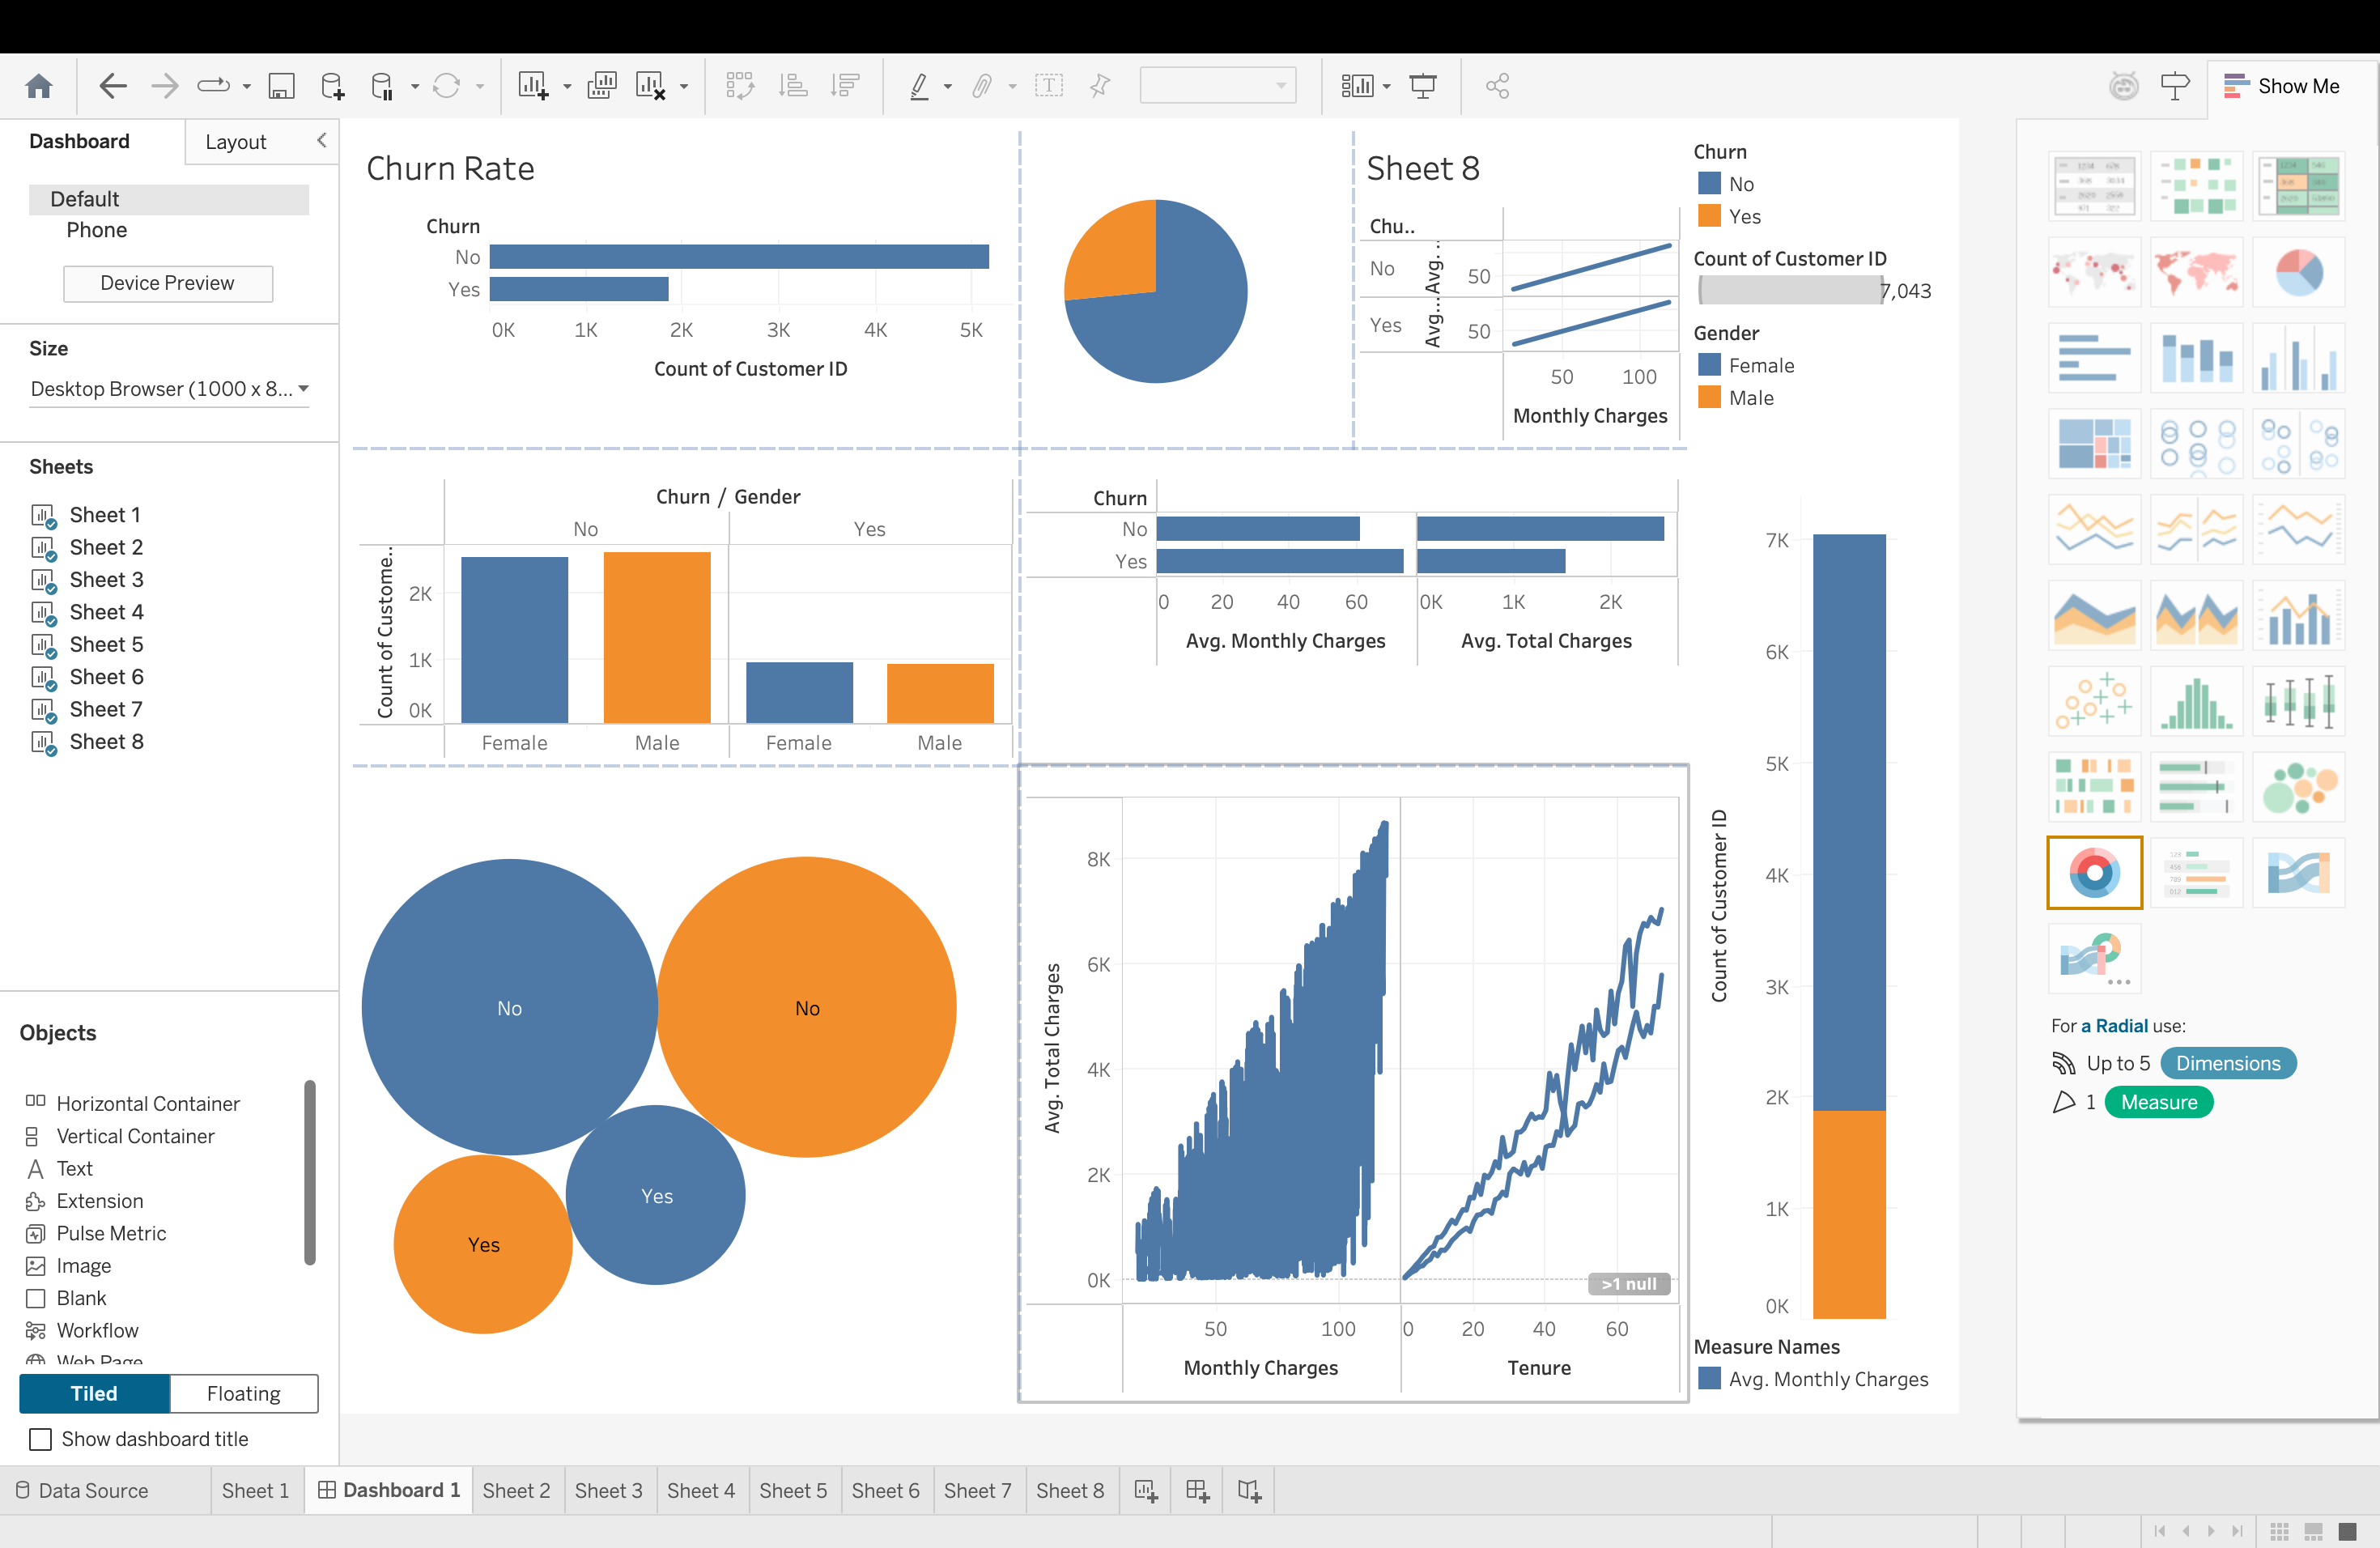

What the dashboard file says about the page in this screenshot:
{"tool":"tableau","page":{"name":"Dashboard 1","canvas":[1000,800],"ordinal":0},"visuals":[{"type":"worksheet","title":"Sheet 1","mark":"Text","box":[8,8,984,40]},{"type":"legend","title":"Sheet 5","param":"[federated.0di1g1e1ldg8qe1a4374m0ubr3km].[none:Churn:nk]","box":[832,8,160,66]},{"type":"worksheet","title":"Sheet 2","mark":"Automatic","box":[9,53,324,202]},{"type":"worksheet","title":"Sheet 3","mark":"Automatic","box":[333,53,329,202]},{"type":"worksheet","title":"Sheet 4","mark":"Automatic","box":[662,53,329,202]},{"type":"worksheet","title":"Sheet 5","mark":"Automatic","rows":["Churn"],"cols":["customerID"],"box":[9,262,500,173]},{"type":"worksheet","title":"Sheet 6","mark":"Automatic","rows":["Contract"],"cols":["Calculation_6406852661682184"],"box":[516,262,478,173]},{"type":"worksheet","title":"Sheet 7","mark":"Line","rows":["Calculation_6406852663406601"],"cols":["Churn","Calculation_6406852661682184"],"box":[9,456,985,204]}]}

Visuals, with their boxes on the page's 1000x800 design canvas (x1, y1, x2, y2). These are canvas units, not pixel positions in the 2380x1548 screenshot, which may show the page scaled, cropped or inside an application window:
"Sheet 1" worksheet (Text marks): (x1=8, y1=8, x2=992, y2=48)
"Sheet 5" legend: (x1=832, y1=8, x2=992, y2=74)
"Sheet 2" worksheet: (x1=9, y1=53, x2=333, y2=255)
"Sheet 3" worksheet: (x1=333, y1=53, x2=662, y2=255)
"Sheet 4" worksheet: (x1=662, y1=53, x2=991, y2=255)
"Sheet 5" worksheet: (x1=9, y1=262, x2=509, y2=435)
"Sheet 6" worksheet: (x1=516, y1=262, x2=994, y2=435)
"Sheet 7" worksheet (Line marks): (x1=9, y1=456, x2=994, y2=660)
